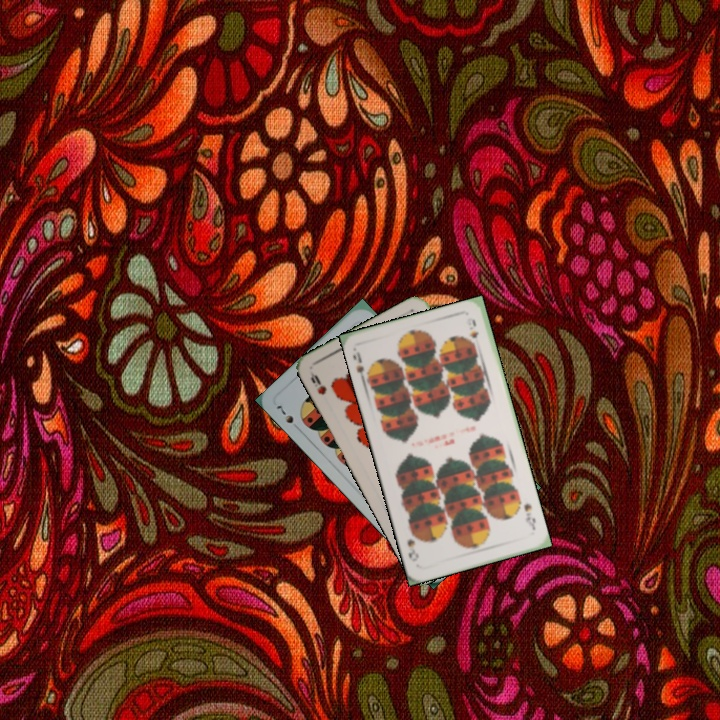H9: (306, 368, 329, 398)
S7: (272, 401, 303, 434)
S9: (349, 347, 374, 386), (520, 499, 538, 533)
